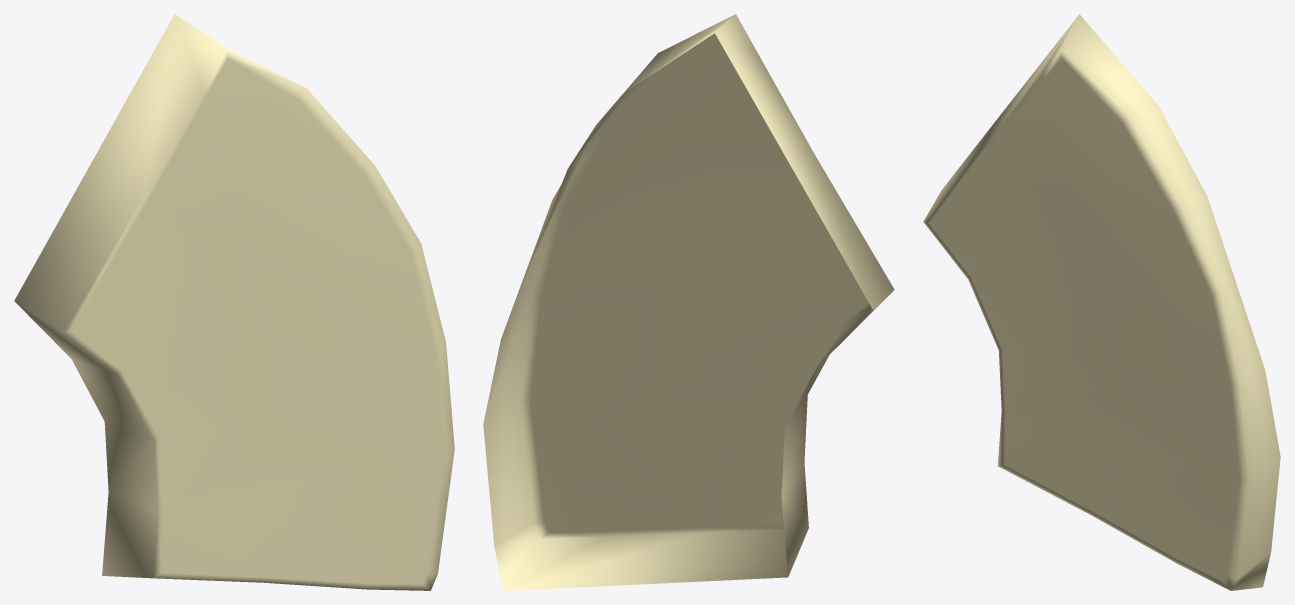
File: ui_radialMenu_5_topRight.glb
3 views of the same model, side by side, from view 1: azimuth 30°, elevation 25°; view 2: azimuth 150°, elevation 25°; view 3: azimuth 330°, elevation 25° (orthographic). The views are drawn at different scales.
Visible parts, largest first — view 1: main5_topRight; view 2: main5_topRight; view 3: main5_topRight.
Boxes of the visible parts, <box> form: main5_topRight: <box>14,14,454,590</box>; main5_topRight: <box>483,14,894,590</box>; main5_topRight: <box>923,14,1280,590</box>.
Size of the model in its own units: 0.7598 by 1.13 by 0.1337.
